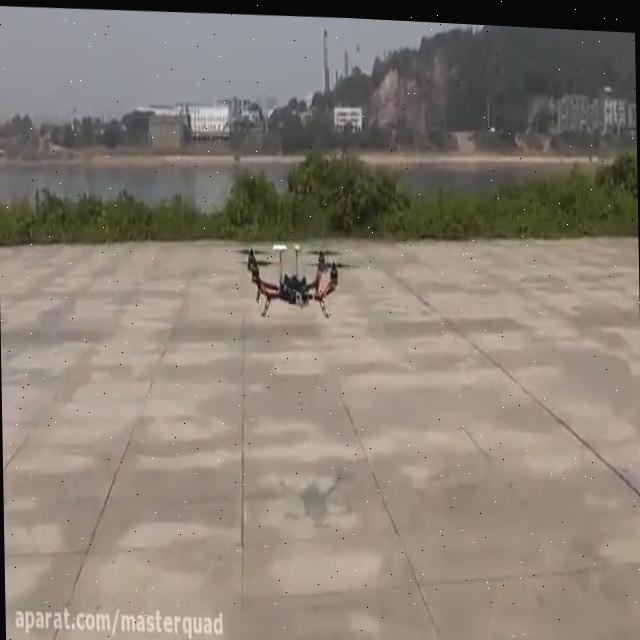drone: (232, 229, 358, 322)
